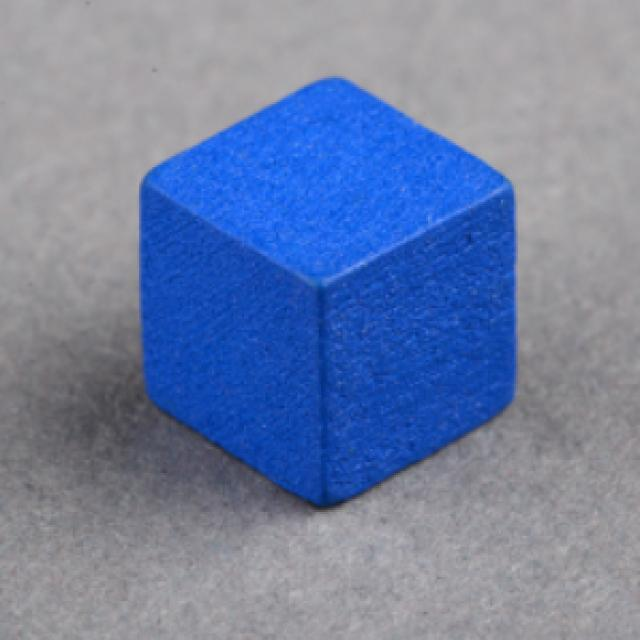bluecube: (141, 78, 516, 512)
